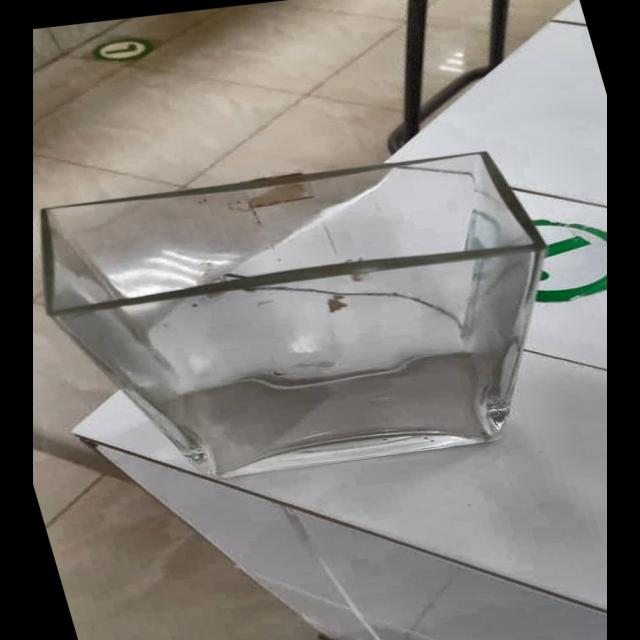TLC Tank: (33, 133, 607, 500)
